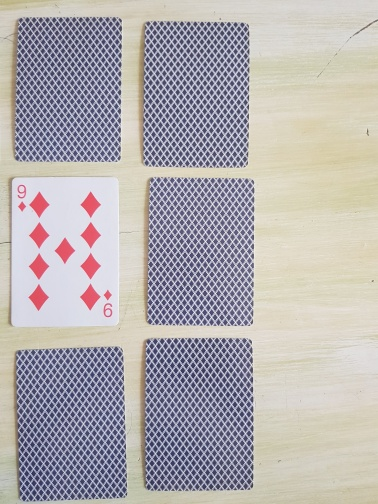nine: (9, 175, 121, 329)
